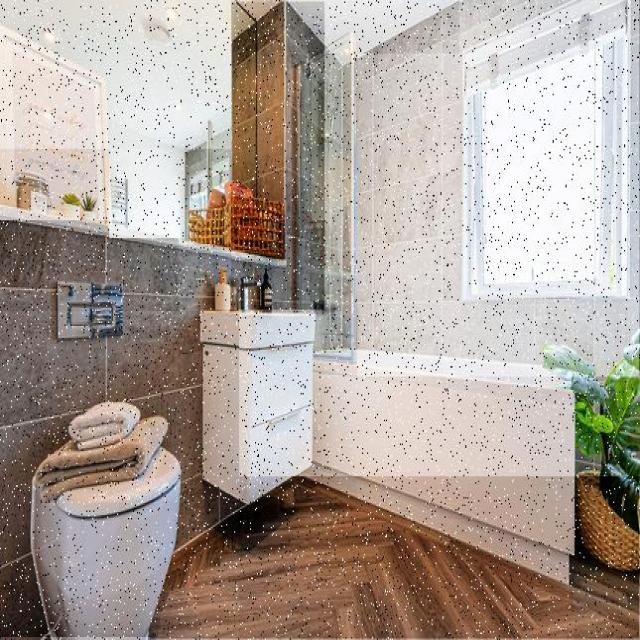Wall: (358, 0, 640, 377), (0, 246, 239, 637), (150, 478, 640, 639), (0, 0, 233, 149), (232, 2, 324, 310), (0, 221, 179, 311), (289, 1, 459, 54), (110, 122, 185, 238), (240, 1, 282, 18), (233, 0, 252, 37)
